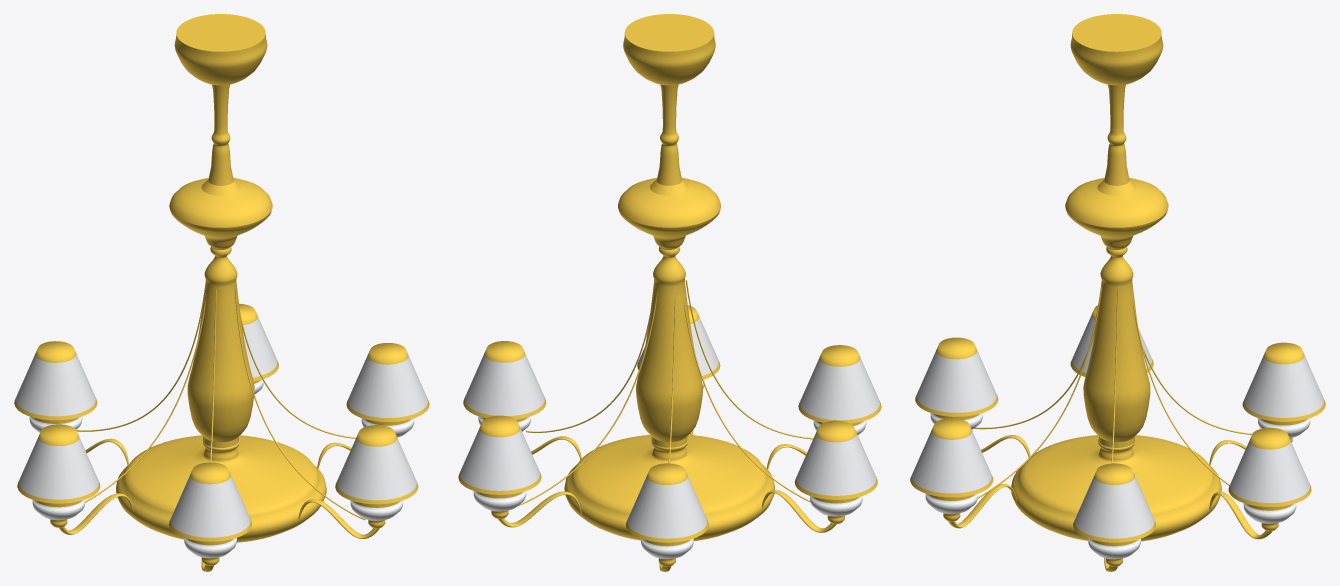
The model's file is Chandelier.fbx.
3 views of the same model, side by side, from view 1: azimuth 30°, elevation 25°; view 2: azimuth 150°, elevation 25°; view 3: azimuth 270°, elevation 25° (orthographic).
Visible parts, largest first — view 1: Chandelier; view 2: Chandelier; view 3: Chandelier.
Boxes of the visible parts, x1,y1,x2,y2 form: Chandelier: (14,14,429,571); Chandelier: (458,14,881,571); Chandelier: (910,14,1325,571).
Size of the model in its own units: 306 by 380 by 274.
